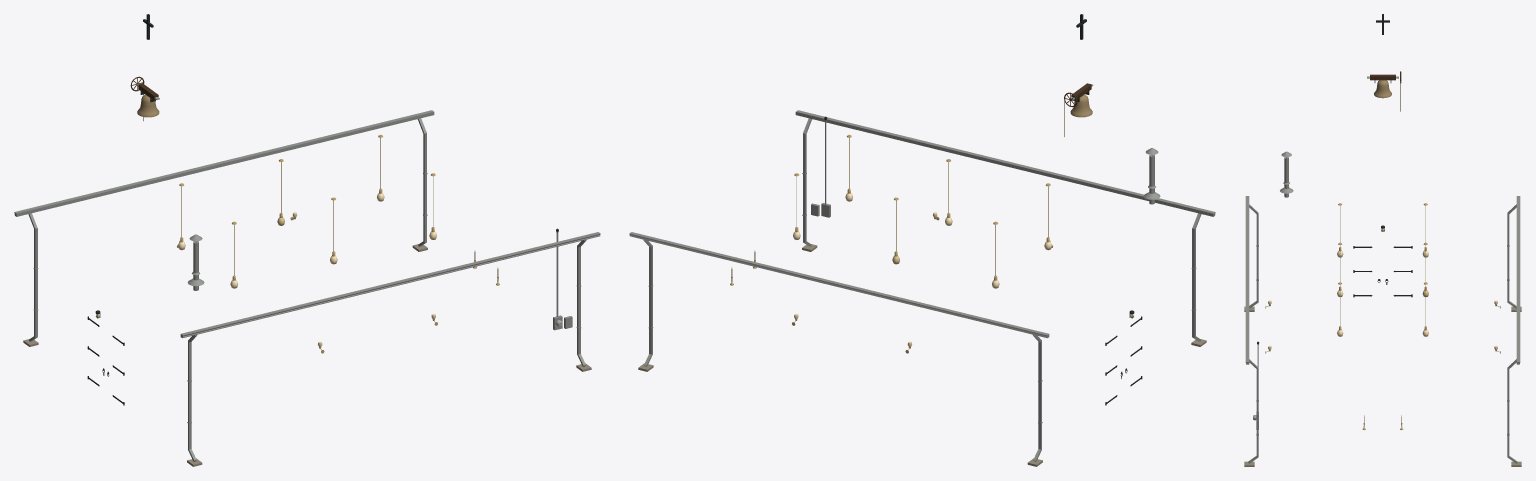
Rendered from SM_Town_Church_Fixtures.fbx.
3 views of the same model, side by side, from view 1: azimuth 30°, elevation 25°; view 2: azimuth 150°, elevation 25°; view 3: azimuth 270°, elevation 25° (orthographic). The views are drawn at different scales.
Parts seen in each view (by area): view 1: SM_Town_Church_Fixtures; view 2: SM_Town_Church_Fixtures; view 3: SM_Town_Church_Fixtures.
Part boxes in pixels (x1,y1,x2,y2): SM_Town_Church_Fixtures: [14, 14, 600, 466]; SM_Town_Church_Fixtures: [629, 14, 1215, 466]; SM_Town_Church_Fixtures: [1244, 14, 1521, 466].
Size of the model in its own units: 14.79 by 10.36 by 12.79.
